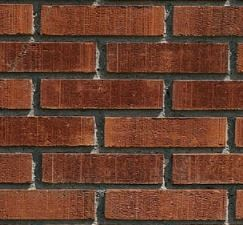brick: (38, 3, 167, 40), (41, 152, 166, 188), (104, 114, 228, 150), (104, 40, 230, 75), (105, 190, 234, 224), (40, 77, 164, 111), (1, 41, 100, 73), (1, 116, 97, 149), (1, 190, 96, 222), (173, 3, 243, 38), (170, 78, 243, 110), (170, 154, 243, 183), (1, 3, 35, 37), (1, 79, 34, 111), (1, 152, 33, 183)
